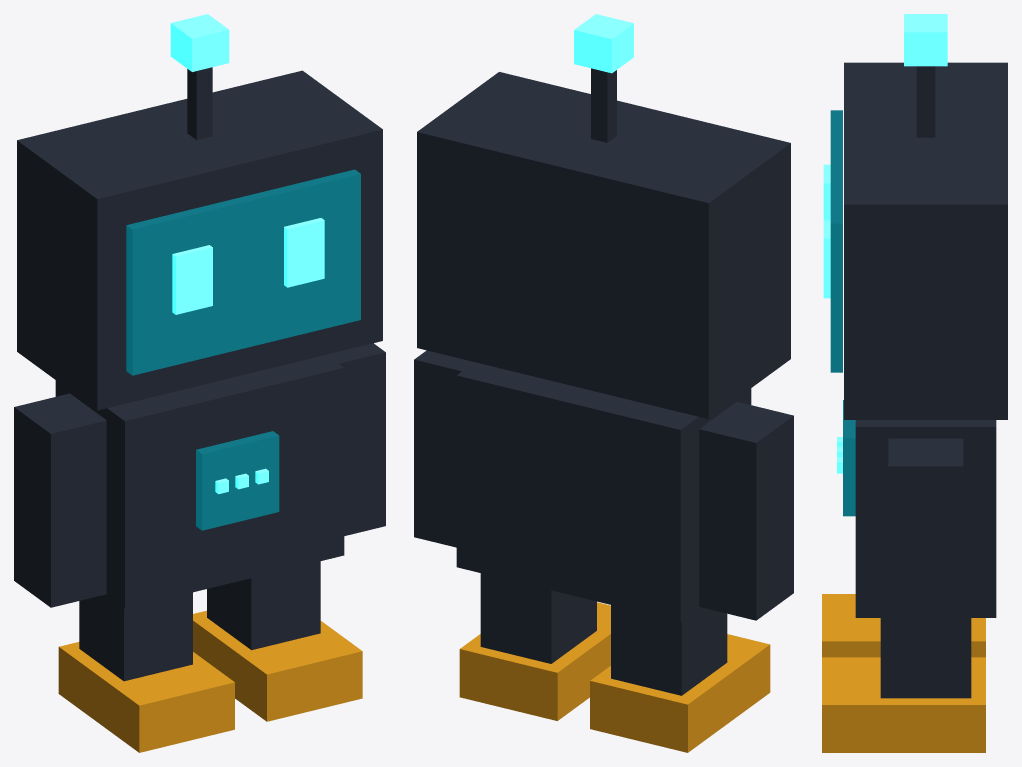
File: byte-proxy.glb
3 views of the same model, side by side, from view 1: azimuth 30°, elevation 25°; view 2: azimuth 150°, elevation 25°; view 3: azimuth 270°, elevation 25° (orthographic). The views are drawn at different scales.
Parts seen in each view (by area): view 1: ByteHeadShell, ByteBody, ByteFace, ByteArmLeftMesh, ByteLegLeftFoot, ByteLegRightFoot, ByteLegLeftMesh, ByteArmRightMesh, ByteLegRightMesh, ByteChestScreen, ByteAntennaLight, ByteEyeLeft (+2 smaller); view 2: ByteHeadShell, ByteBody, ByteArmLeftMesh, ByteLegLeftFoot, ByteLegRightFoot, ByteLegLeftMesh, ByteArmRightMesh, ByteLegRightMesh, ByteAntennaLight, ByteAntennaStem; view 3: ByteHeadShell, ByteArmRightMesh, ByteBody, ByteLegRightFoot, ByteLegRightMesh, ByteLegLeftFoot, ByteFace, ByteAntennaLight, ByteAntennaStem, ByteChestScreen, ByteEyeRight, ByteEyeLeft.
Part boxes in pixels (left/top/right/bottom): ByteHeadShell: left=17, top=70, right=382, bottom=410; ByteBody: left=55, top=354, right=344, bottom=608; ByteFace: left=126, top=169, right=360, bottom=375; ByteArmLeftMesh: left=14, top=393, right=106, bottom=607; ByteLegLeftFoot: left=58, top=642, right=234, bottom=752; ByteLegRightFoot: left=193, top=610, right=362, bottom=721; ByteLegLeftMesh: left=79, top=592, right=192, bottom=681; ByteArmRightMesh: left=327, top=343, right=385, bottom=535; ByteLegRightMesh: left=207, top=561, right=320, bottom=650; ByteChestScreen: left=196, top=431, right=279, bottom=530; ByteAntennaLight: left=170, top=14, right=229, bottom=71; ByteEyeLeft: left=172, top=245, right=212, bottom=314; ByteHeadShell: left=417, top=72, right=790, bottom=419; ByteBody: left=456, top=362, right=751, bottom=621; ByteArmLeftMesh: left=699, top=401, right=793, bottom=620; ByteLegLeftFoot: left=590, top=634, right=770, bottom=752; ByteLegRightFoot: left=459, top=602, right=610, bottom=720; ByteLegLeftMesh: left=611, top=605, right=727, bottom=695; ByteArmRightMesh: left=414, top=350, right=474, bottom=547; ByteLegRightMesh: left=480, top=573, right=596, bottom=663; ByteAntennaLight: left=574, top=14, right=633, bottom=73; ByteAntennaStem: left=591, top=68, right=616, bottom=142; ByteHeadShell: left=844, top=62, right=1007, bottom=419; ByteArmRightMesh: left=888, top=438, right=963, bottom=643; ByteBody: left=855, top=420, right=996, bottom=617; ByteLegRightFoot: left=822, top=657, right=985, bottom=752; ByteLegRightMesh: left=880, top=618, right=971, bottom=698; ByteLegLeftFoot: left=822, top=594, right=985, bottom=657; ByteFace: left=830, top=110, right=842, bottom=372; ByteAntennaLight: left=904, top=14, right=947, bottom=66; ByteAntennaStem: left=916, top=66, right=935, bottom=137; ByteChestScreen: left=843, top=400, right=855, bottom=516; ByteEyeRight: left=823, top=220, right=830, bottom=298; ByteEyeLeft: left=823, top=164, right=830, bottom=220.
Bounding box in the file's own units: 2.52 × 4.76 × 1.19.
